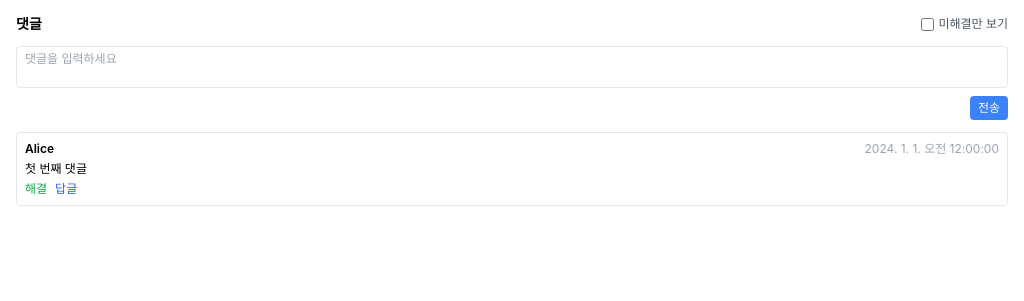
Test case: CommentPanel › F-CMT-03: 답글 클릭 시 들여쓰기 입력창 표시
The image size is (1024, 301).
Expected: the text "첫 번째 댓글" is shown, 25,161 -> 87,176
Click the button "답글" at coordinates (66, 189), box 55,181 -> 77,197
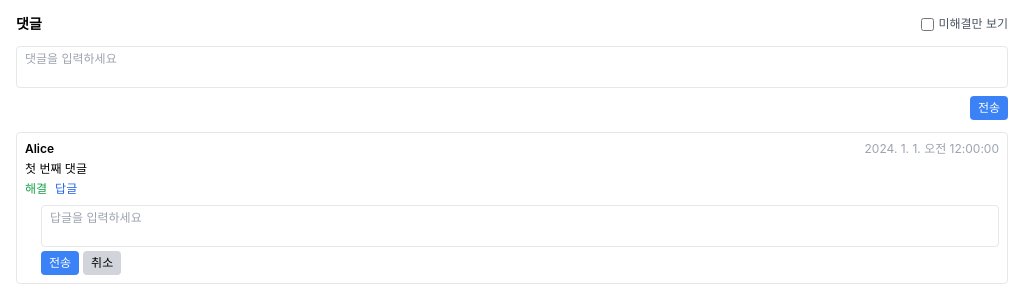
Expected: the text box with placeholder "답글을 입력하세요" is shown, 41,205 -> 999,247
